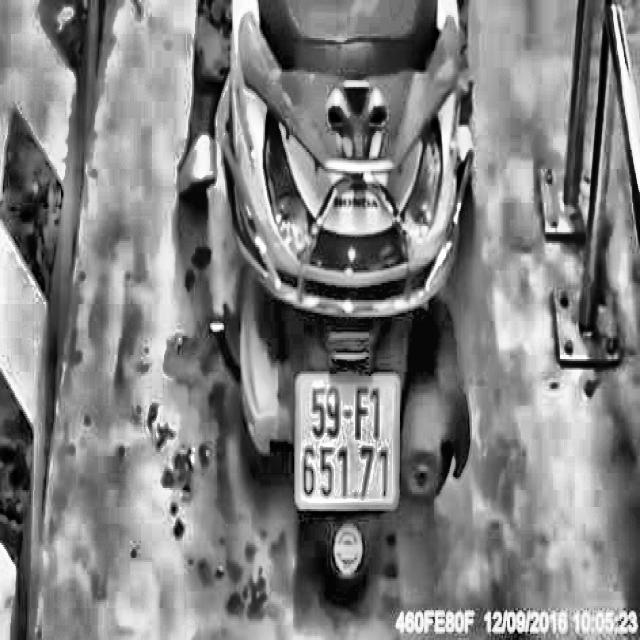plate: (289, 365, 405, 517)
